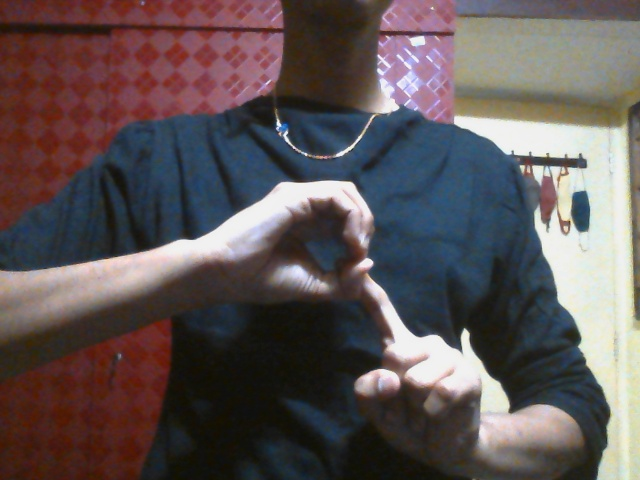Q: (221, 180, 482, 471)
